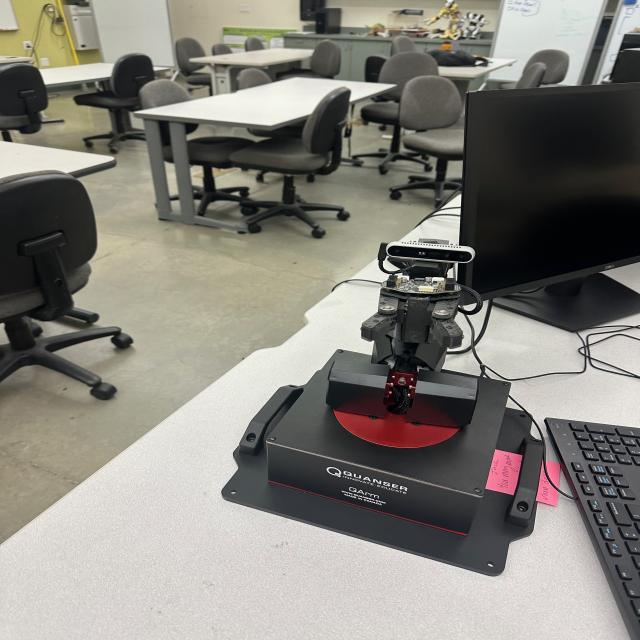monitor: (455, 85, 640, 307)
robotic-arm: (319, 237, 511, 426)
